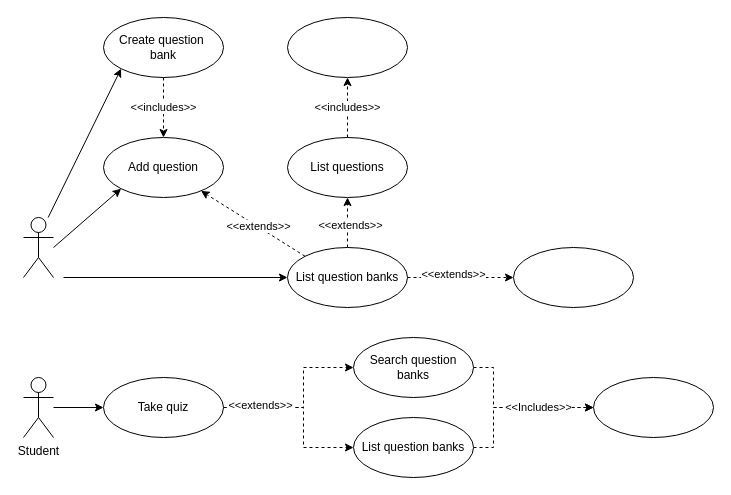
Some shapes in this 731 by 495 pixel diagram are drawn without their labels. The centre of each missing label's shape, as x and y in pixels:
"Delete question bank" belongs at (573,277).
"Delete questions" belongs at (347,47).
"End quiz" belongs at (653,407).
"Teacher" belongs at (38,247).
